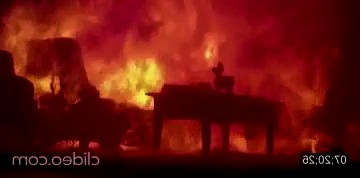fire: (0, 1, 350, 148)
